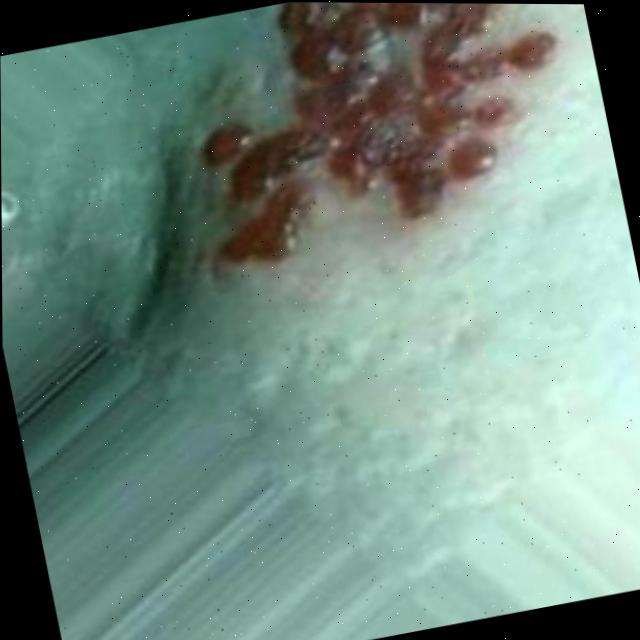Shingles: (150, 1, 594, 295)
